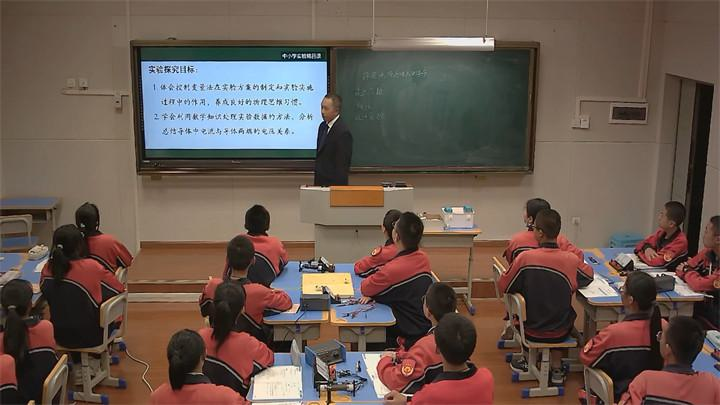listen: (42, 224, 97, 329), (528, 209, 570, 315), (660, 306, 705, 402), (615, 269, 657, 364), (162, 328, 209, 403), (435, 315, 478, 395), (204, 282, 252, 350), (1, 271, 37, 357), (387, 208, 425, 283), (645, 199, 684, 266), (695, 206, 720, 294), (241, 196, 282, 247), (222, 236, 258, 287)
